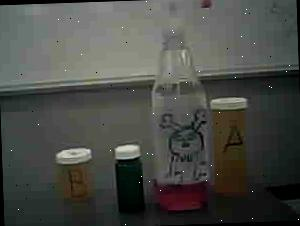Bottle A: (204, 85, 258, 208)
Bottle B: (50, 142, 100, 210)
Bottle C: (110, 139, 148, 220)
hazard: (142, 0, 217, 216)
